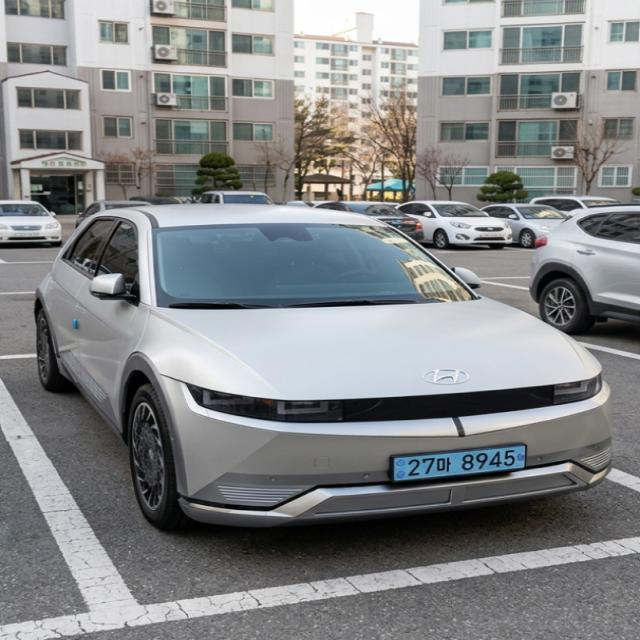car: (381, 438, 536, 499)
carev: (510, 444, 532, 478), (387, 453, 407, 486)
